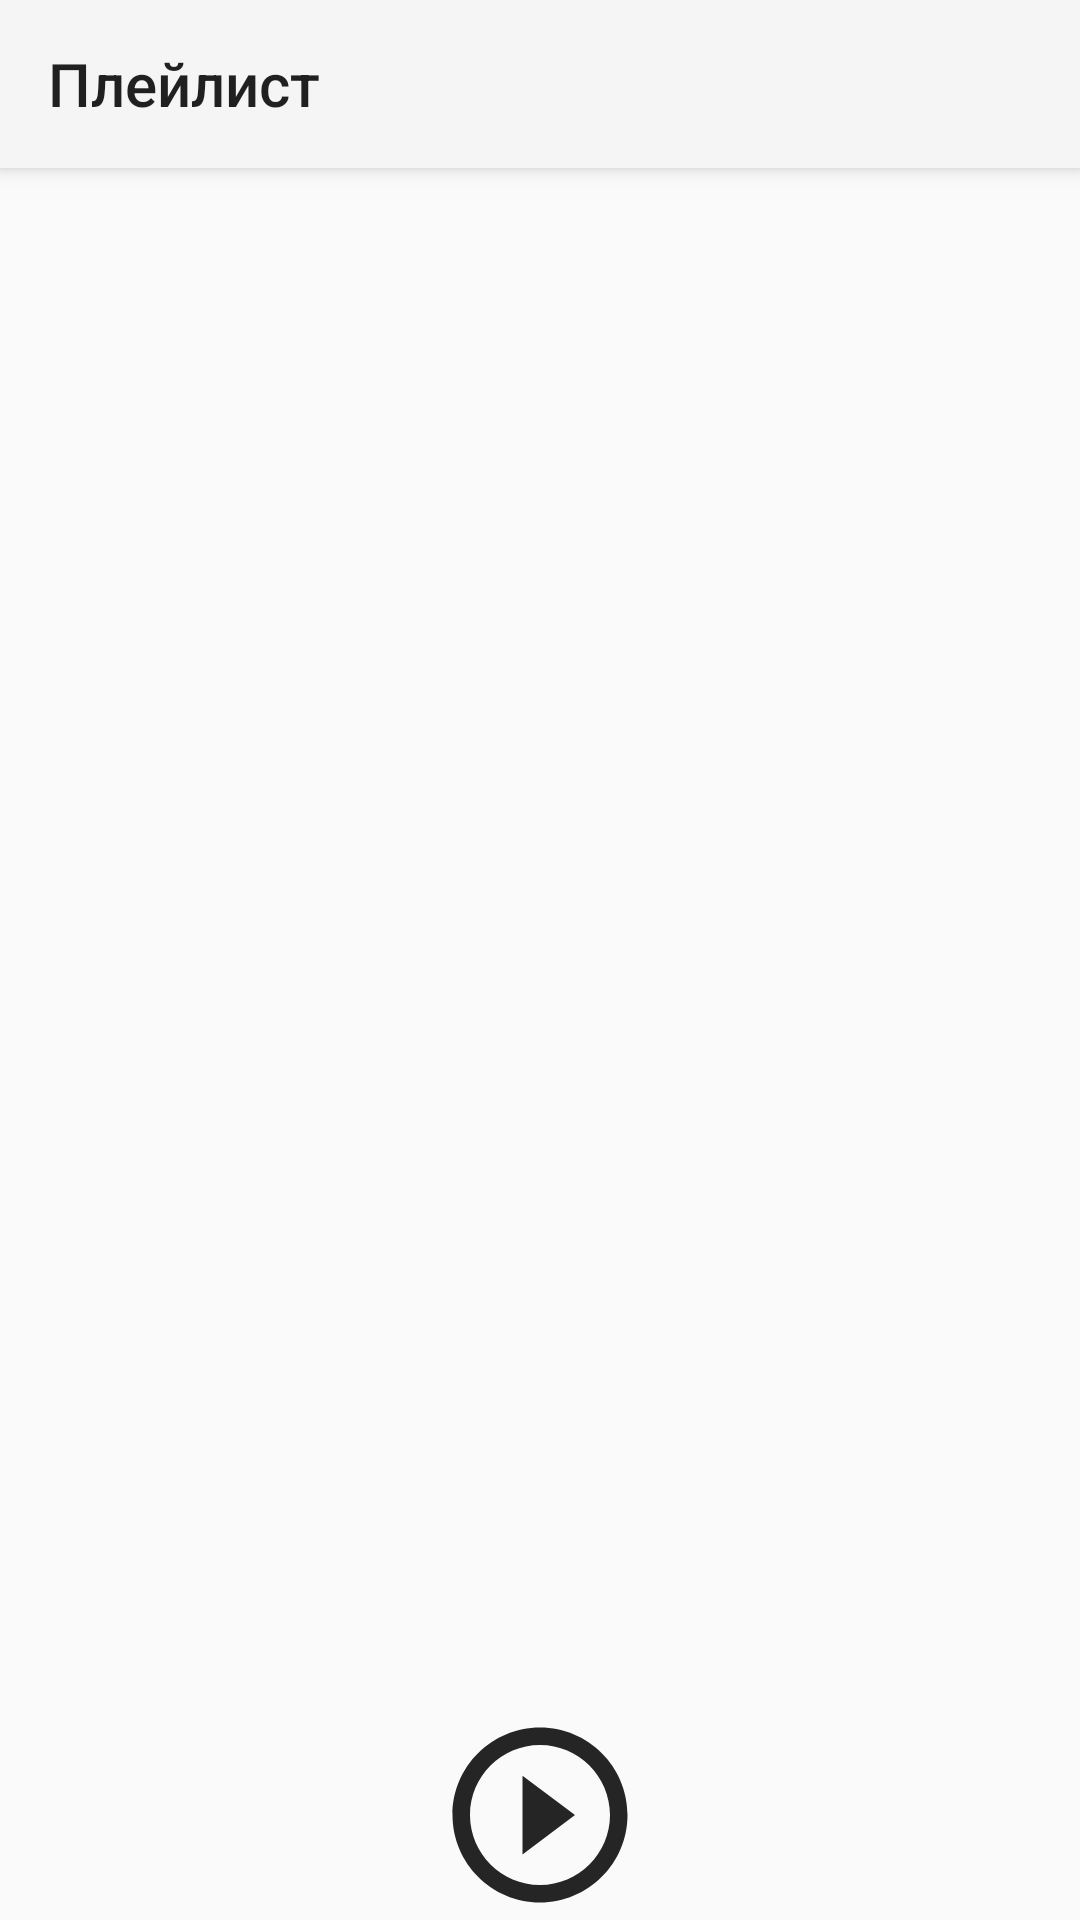

Locate icon controls on the screen. Image size 1080px×1920px, boxes as {"x1": x1, "y1": y1, "x2": x2, "y2": y2}.
play: {"x1": 452, "y1": 1727, "x2": 628, "y2": 1903}
